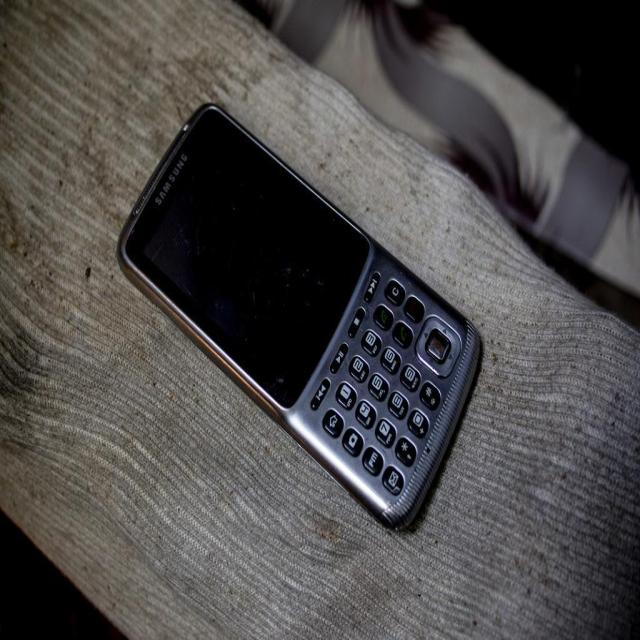Phone: (115, 98, 483, 537)
